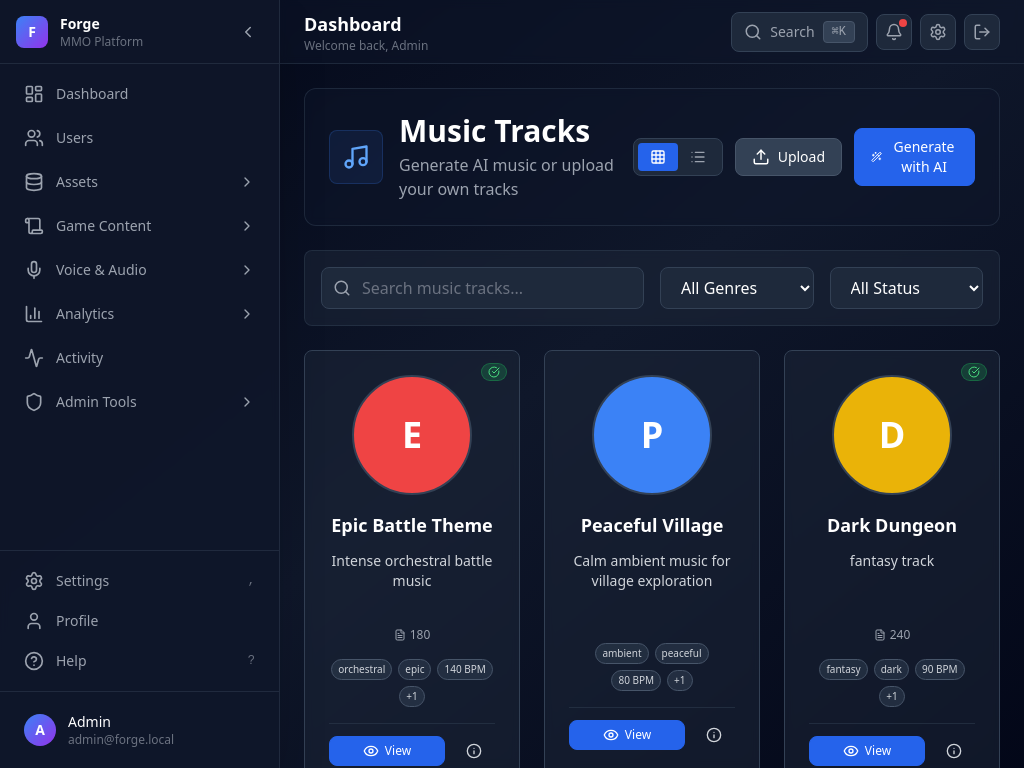
Test: MusicPage - Integration Tests › AI Music Generation › opens generation modal when "Generate with AI" is clicked
Expected: the heading "Epic Battle Theme" is shown, [329,511,495,539]
Click the button "Generate with AI": (914, 157) [854,128,975,186]
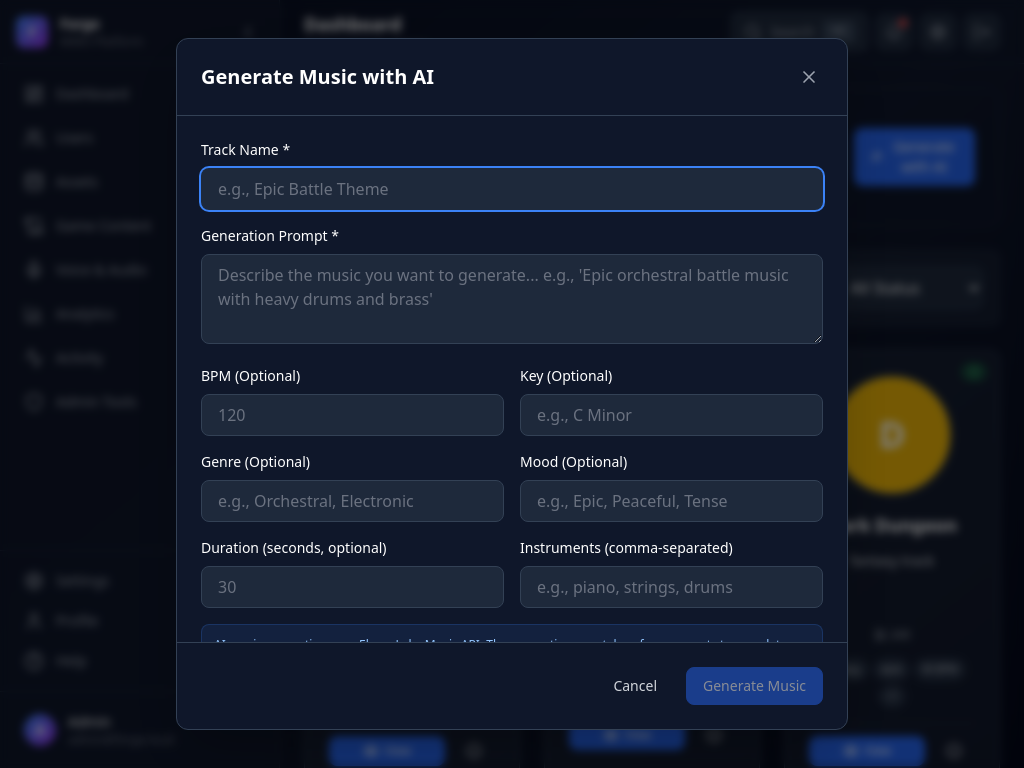
Expected: the heading "Generate Music with AI" is shown, [201,63,434,91]
Expected: the field with placeholder "e.g., Epic Battle Theme" is shown, [201,168,823,210]
